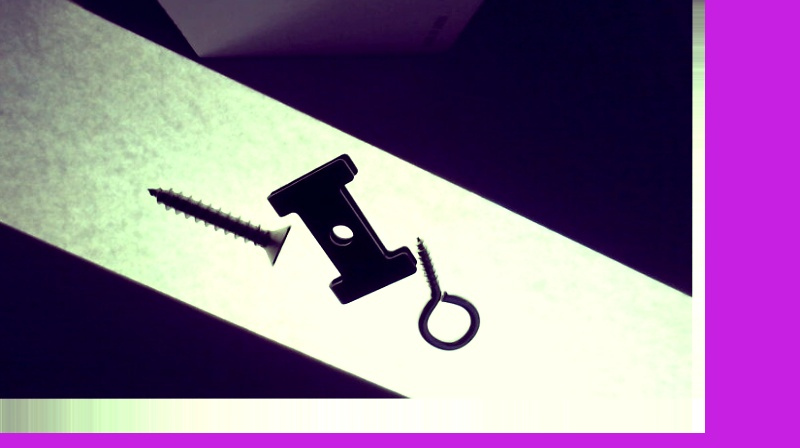O001: (413, 232, 482, 352)
O002: (266, 150, 417, 306)
S001: (149, 187, 289, 264)
